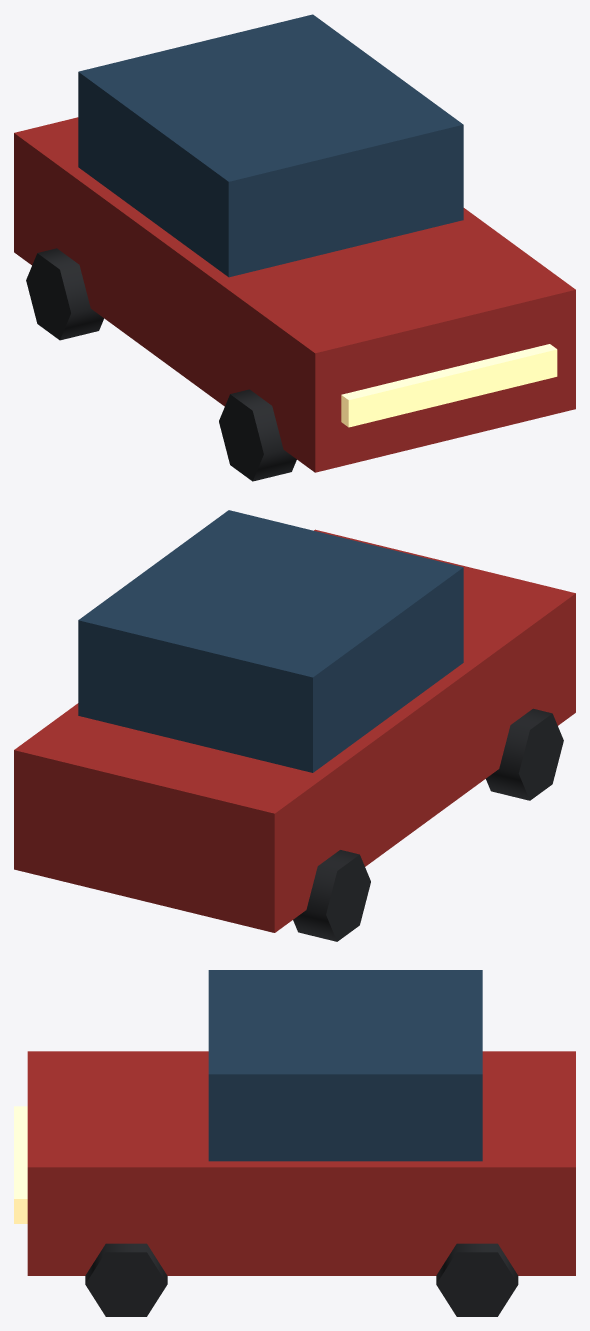
File: vehicle_car.glb
3 views of the same model, one above another, from view 1: azimuth 30°, elevation 25°; view 2: azimuth 150°, elevation 25°; view 3: azimuth 270°, elevation 25° (orthographic). The views are drawn at different scales.
Visible parts, largest first — view 1: vehicle_car; view 2: vehicle_car; view 3: vehicle_car.
Boxes of the visible parts, x1,y1,x2,y2 form: vehicle_car: (14,14,575,481); vehicle_car: (14,510,575,941); vehicle_car: (14,970,575,1316).
Bounding box in the file's own units: 0.092 × 0.0734 × 0.164.
